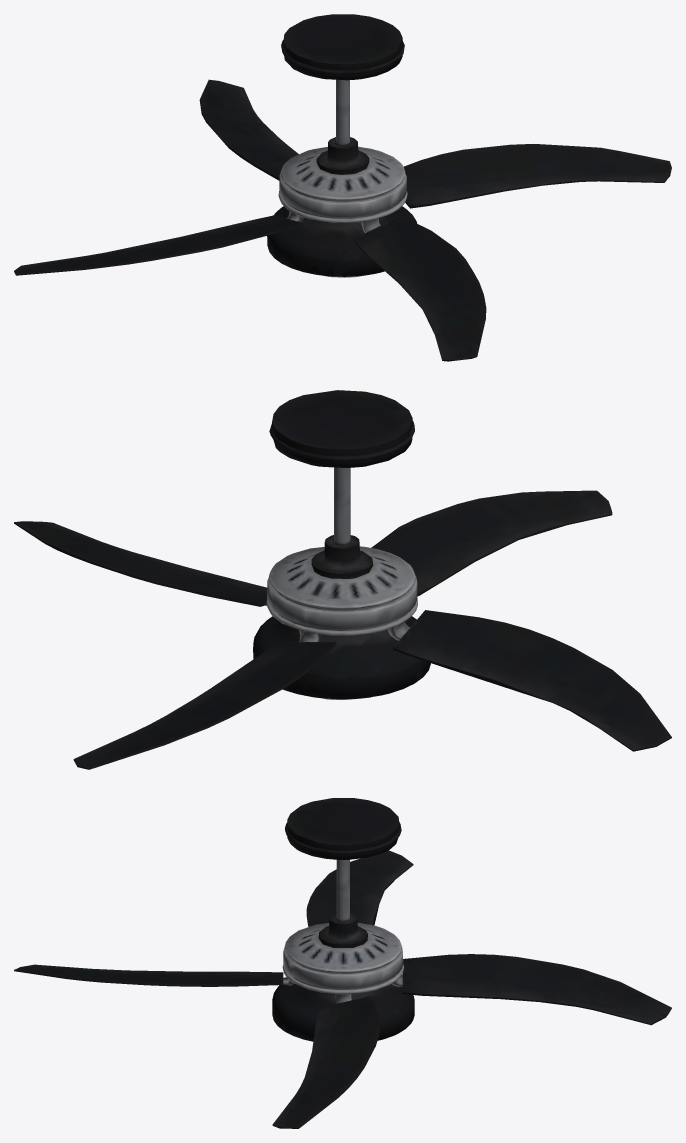
The model's file is fan.glb.
3 renders of one model, top to bottom at view 1: azimuth 30°, elevation 25°; view 2: azimuth 150°, elevation 25°; view 3: azimuth 270°, elevation 25°, orthographic. The views are drawn at different scales.
Parts seen in each view (by area): view 1: ceiling_fan; view 2: ceiling_fan; view 3: ceiling_fan.
Part boxes in pixels (<box>): ceiling_fan: <box>14,14,671,361</box>; ceiling_fan: <box>14,390,671,769</box>; ceiling_fan: <box>14,798,671,1128</box>.
Size of the model in its own units: 1.46 by 0.5163 by 1.46.
1 material, 1 textured.
